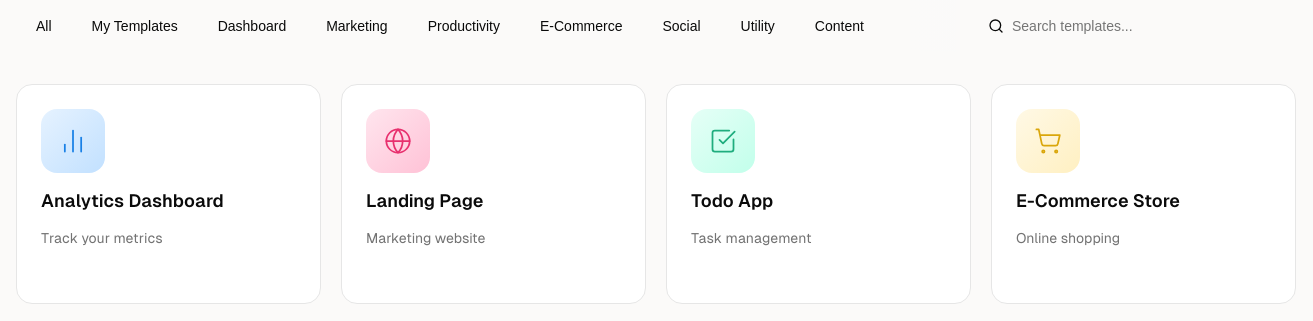
Test: TemplateGrid › should filter templates by category
Click the button with aria-label "Filter by Dashboard category" at [252, 26], box top-left (202, 4), bottom-right (302, 48)
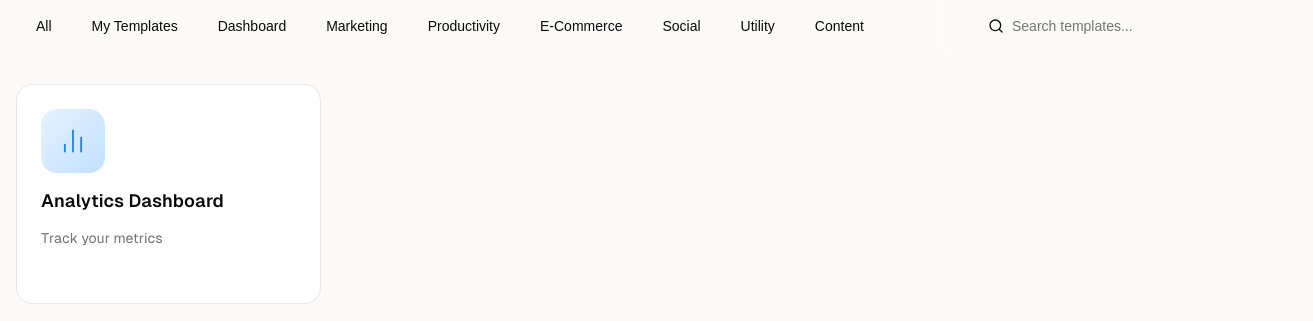
Result: the button "Landing Page" is gone
Result: the button "Todo App" is gone
Result: the button "E-Commerce Store" is gone
